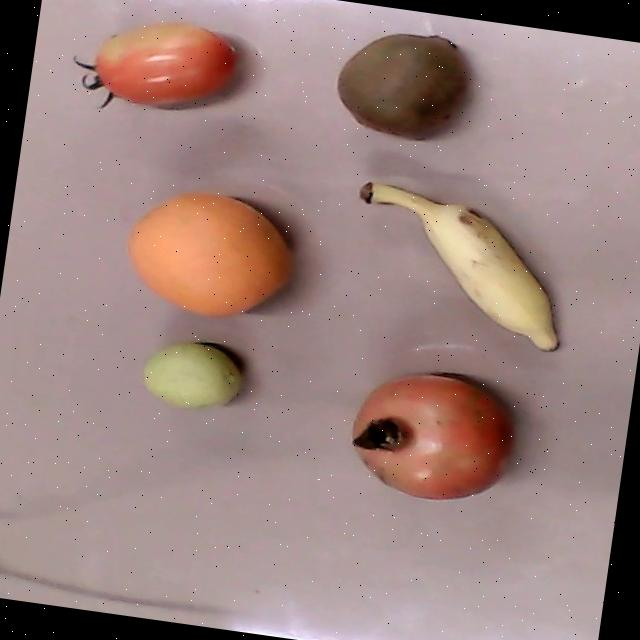kiwi: (335, 31, 476, 140)
lemon: (144, 341, 243, 411)
orange: (128, 191, 292, 316)
pomegranate: (350, 374, 515, 499)
tomato: (73, 23, 239, 108)
